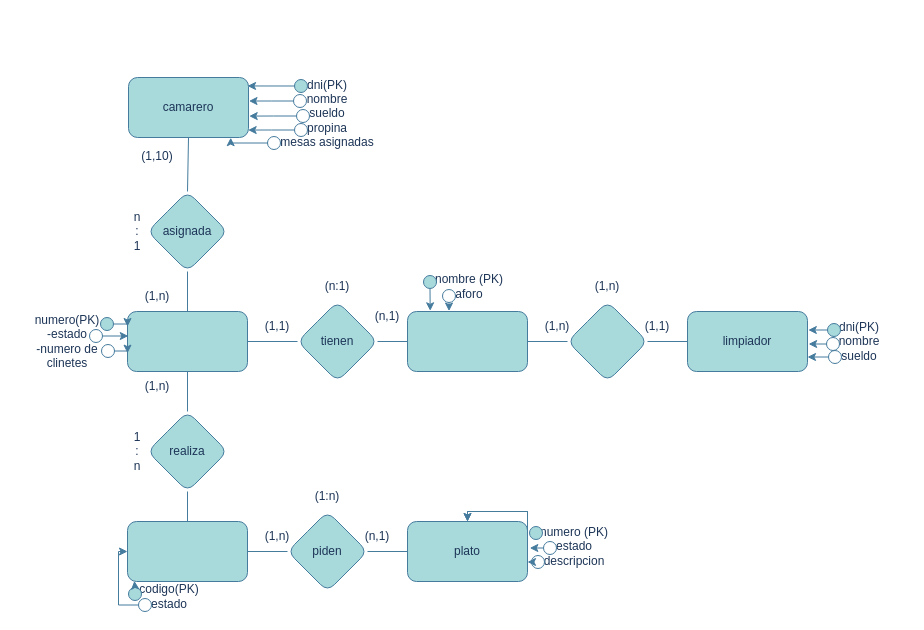
The diagram is 924 pixels wide and 630 high, and some of its shapes have lost their labels. Each missing label, with the centre of its shape:
"mesa" belongs at point (187, 341).
"pedido" belongs at point (187, 551).
"sala" belongs at point (467, 341).
"tiene" belongs at point (607, 341).
